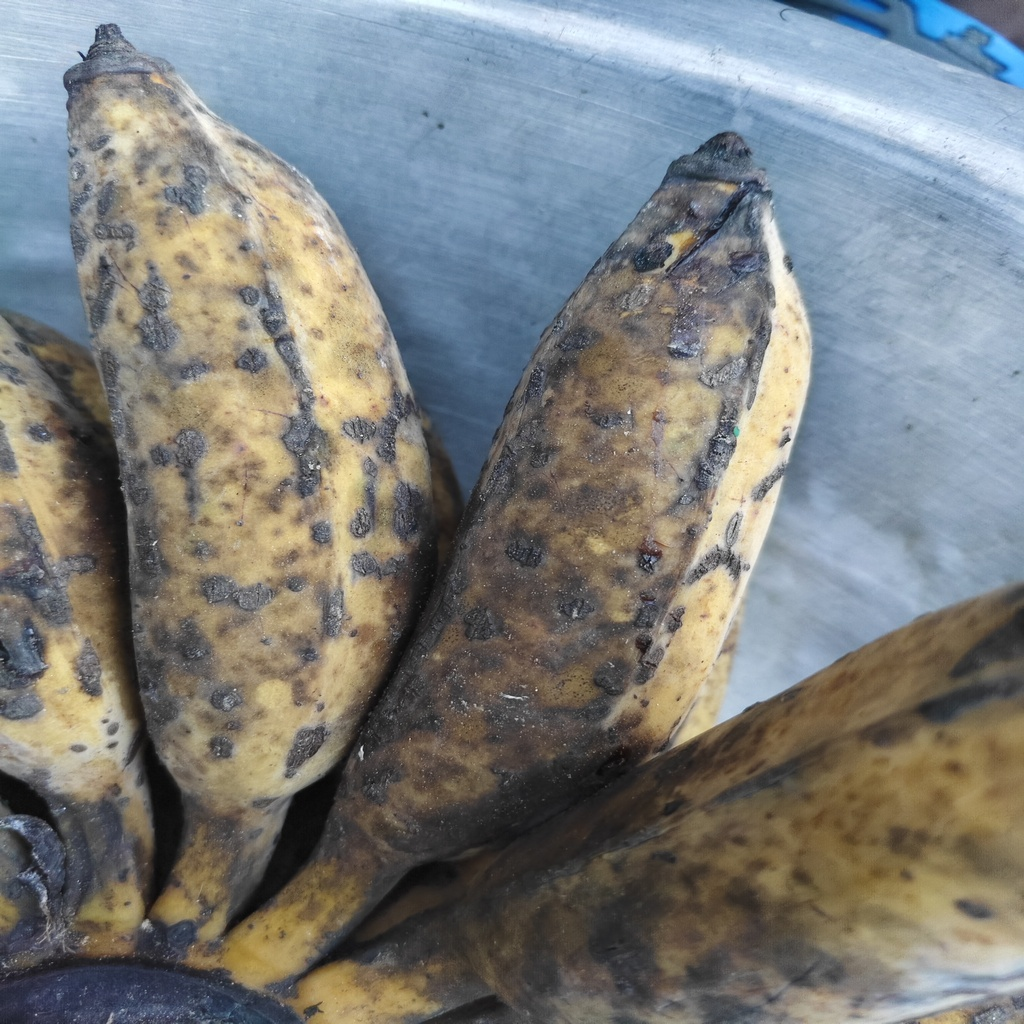unhealthy: (344, 143, 809, 833), (67, 41, 431, 817)
